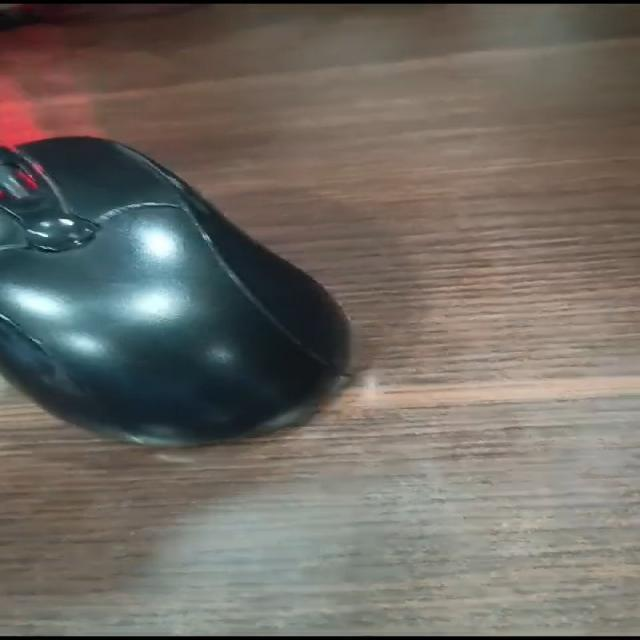Mouse: (0, 82, 438, 495)
